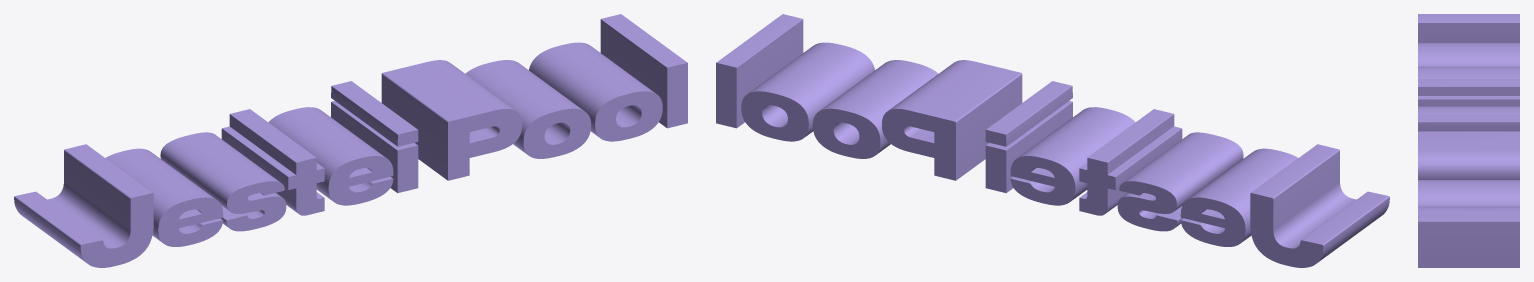
File: jestei-wordmark-biloba.glb
3 views of the same model, side by side, from view 1: azimuth 30°, elevation 25°; view 2: azimuth 150°, elevation 25°; view 3: azimuth 270°, elevation 25° (orthographic). The views are drawn at different scales.
Visible parts, largest first — view 1: jestei-wordmark-biloba; view 2: jestei-wordmark-biloba; view 3: jestei-wordmark-biloba.
Boxes of the visible parts, x1,y1,x2,y2 form: jestei-wordmark-biloba: [14, 14, 687, 267]; jestei-wordmark-biloba: [716, 14, 1389, 267]; jestei-wordmark-biloba: [1418, 14, 1519, 267].
Bounding box in the file's own units: 2 × 0.2014 × 0.38.
